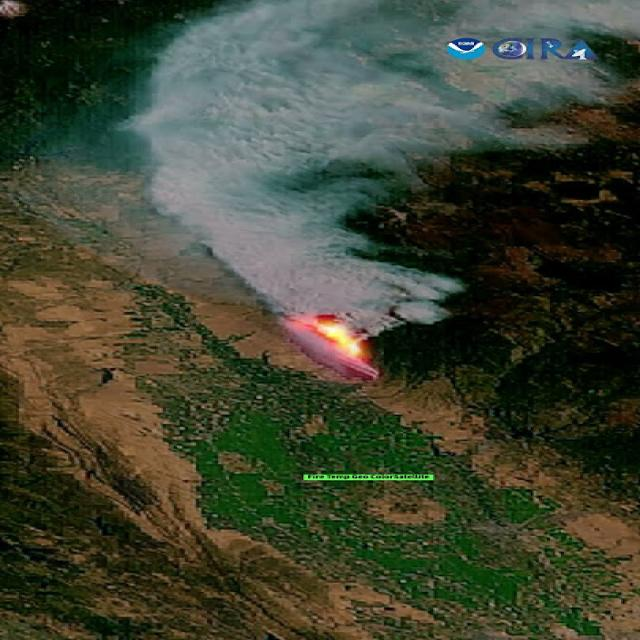argiculture: (133, 284, 618, 639)
methane: (122, 0, 638, 335), (281, 314, 379, 386)
